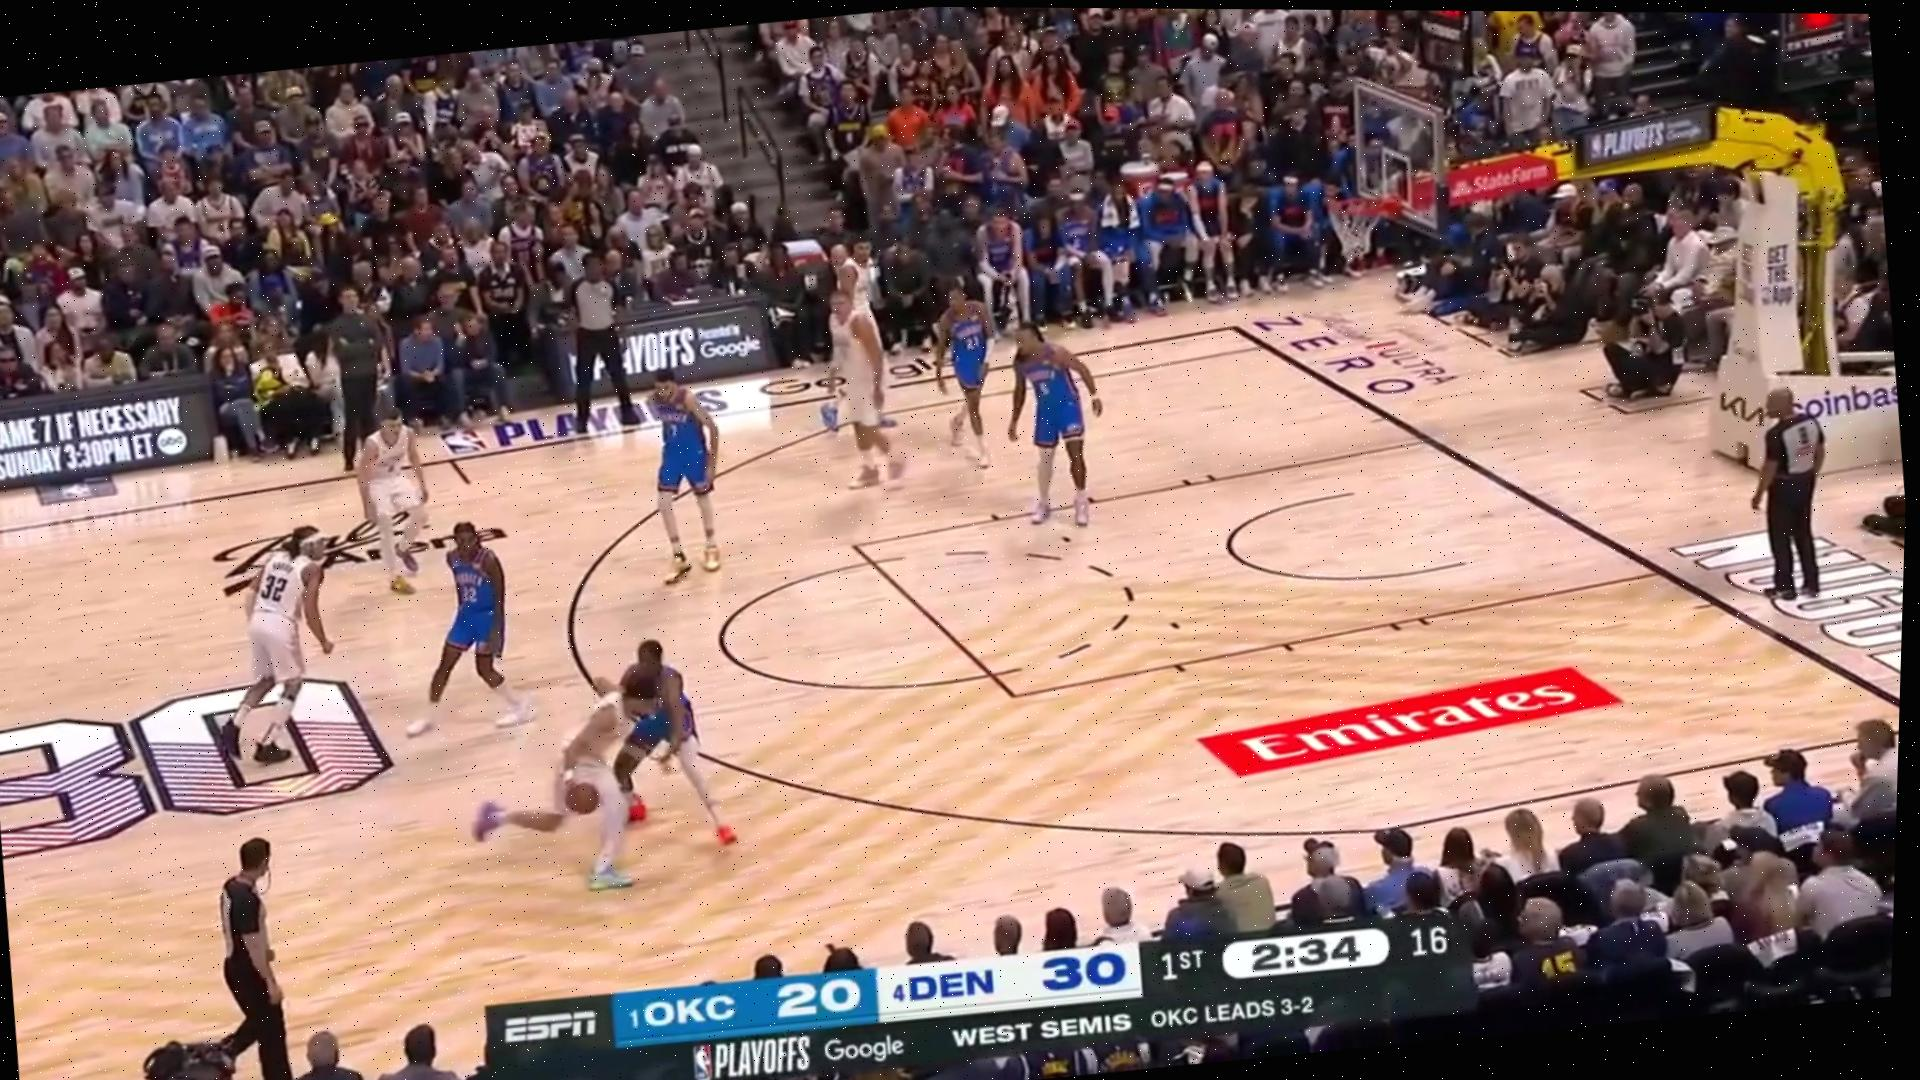no_foul: (497, 623, 785, 923)
